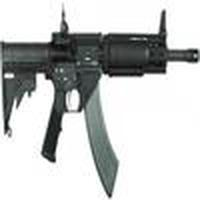gun: (1, 25, 200, 142)
